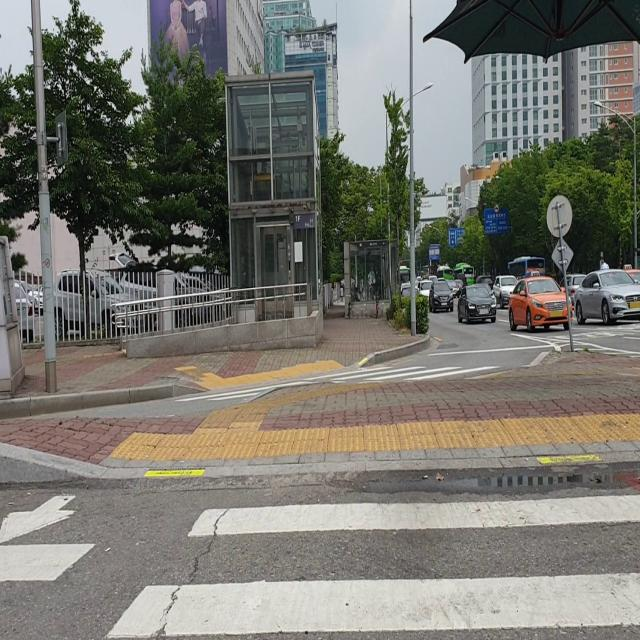횡단보도: (0, 490, 638, 635), (337, 365, 492, 377)
